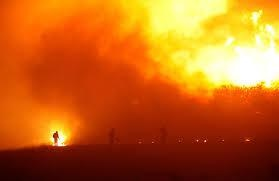fire: (130, 2, 279, 99), (45, 119, 73, 147)
